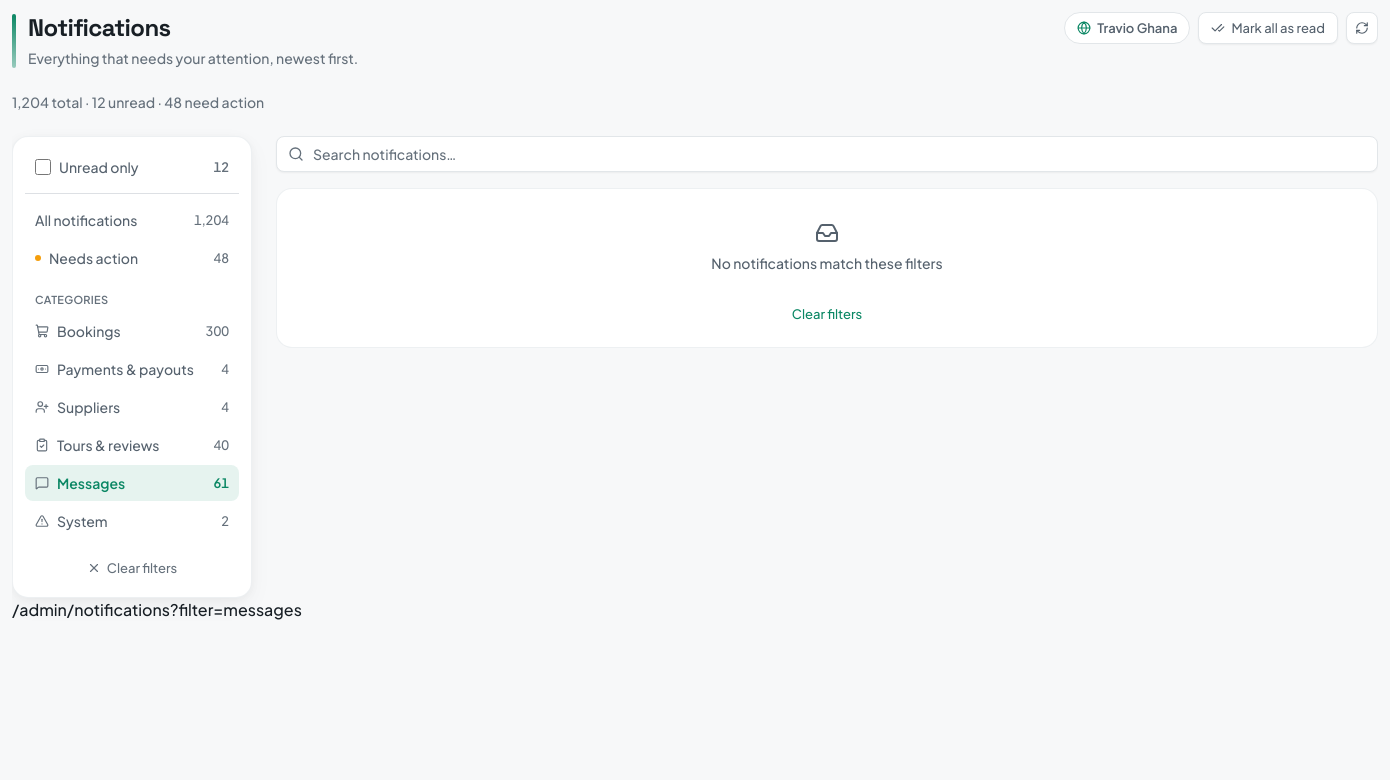
it: NotificationsPage › offers a way out when a filter returns nothing
The image size is (1390, 780).
Expected: the text "No notifications match these filters" is shown, [711, 253, 943, 273]
Step 1. Click the button "Clear filters" below "Categories" → (132, 568), box [25, 550, 239, 584]
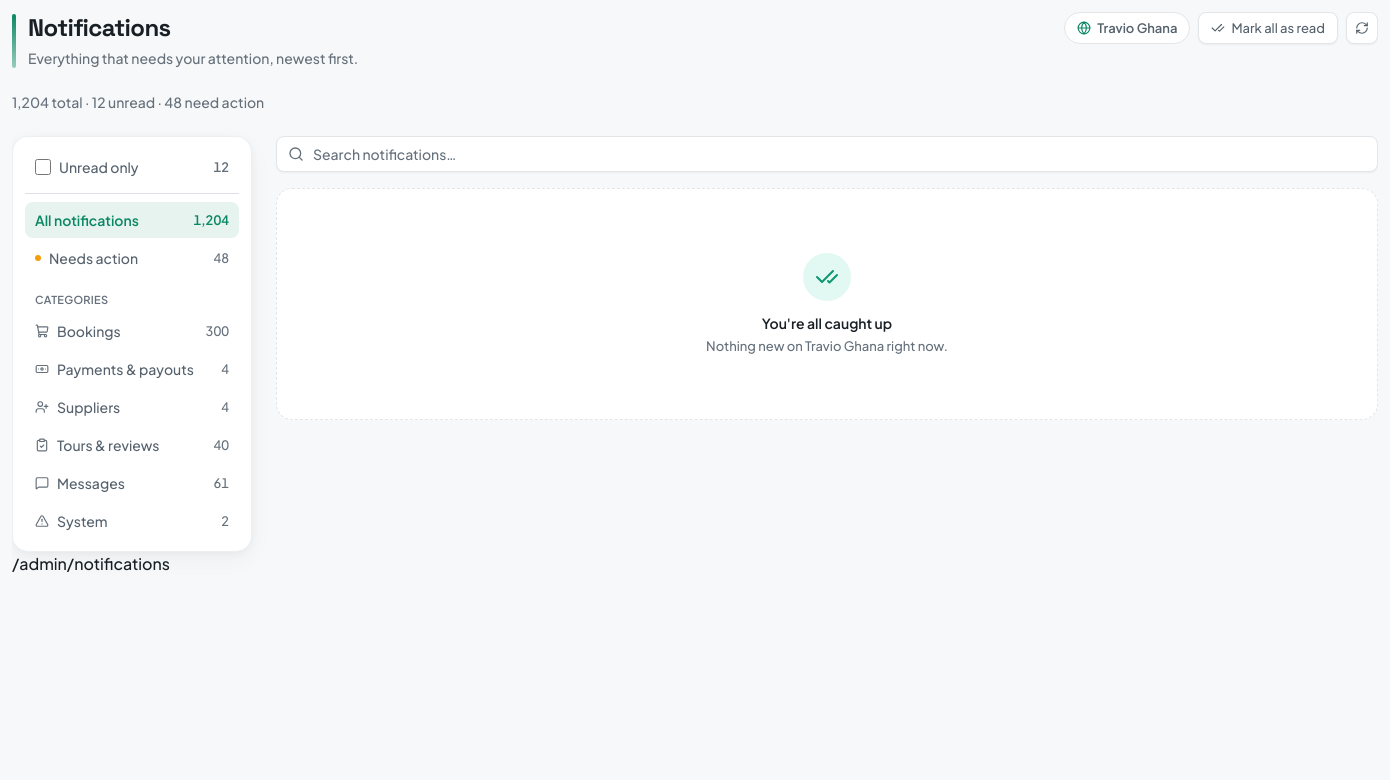
Result: the text with test id "location" reads "/admin/notifications" at [12, 552, 170, 574]
